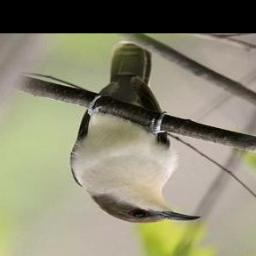Cuckoo: (69, 40, 202, 224)
